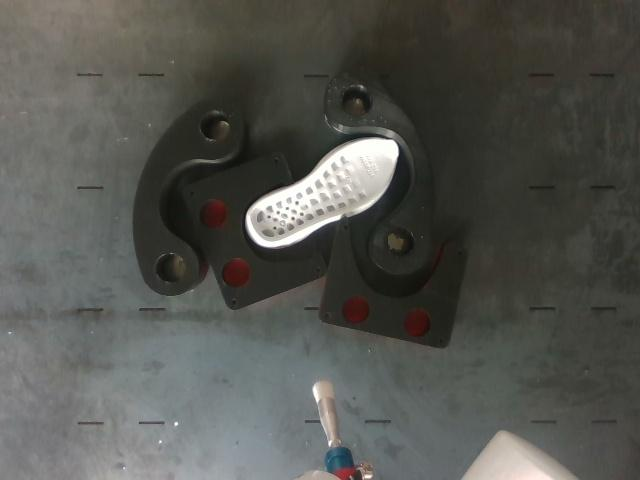shoes: (250, 140, 398, 242)
